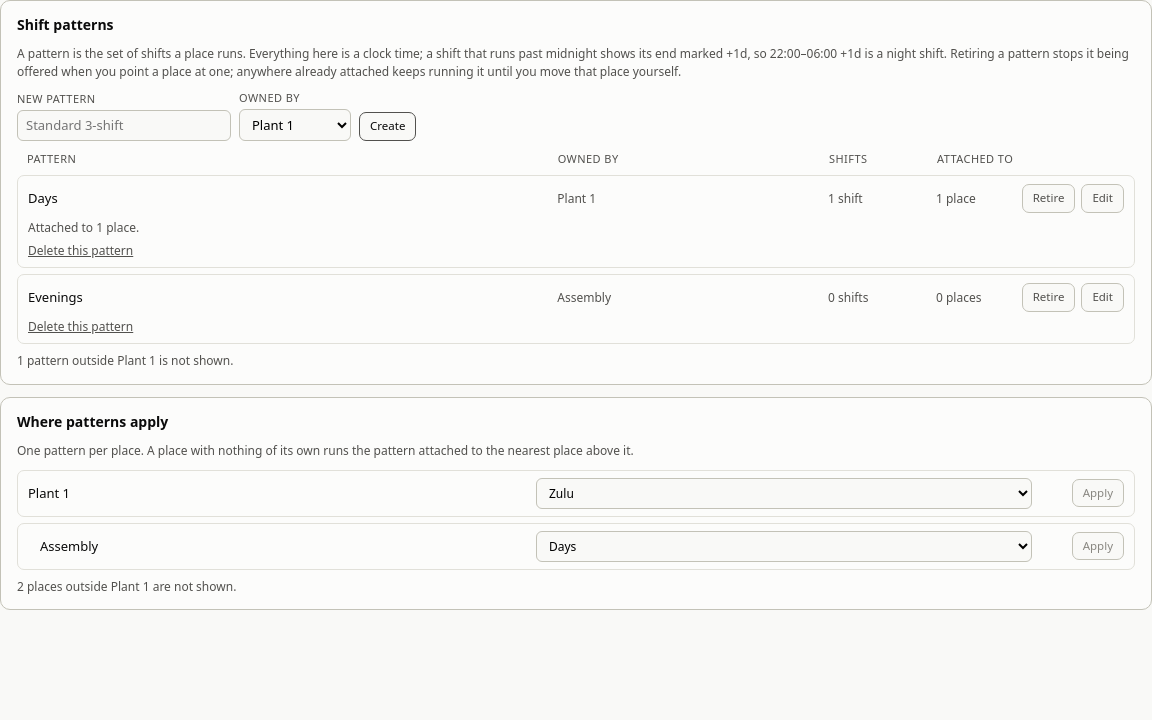
Scenario: ShiftsPanel — uniqueness reads the UNTRIMMED list › S16: renaming onto a filtered-away pattern's name is refused the same way
The image size is (1152, 720).
Click the button "Edit" in the row of "Days" at (1103, 198), box x1=1081 y1=184 x2=1124 y2=213
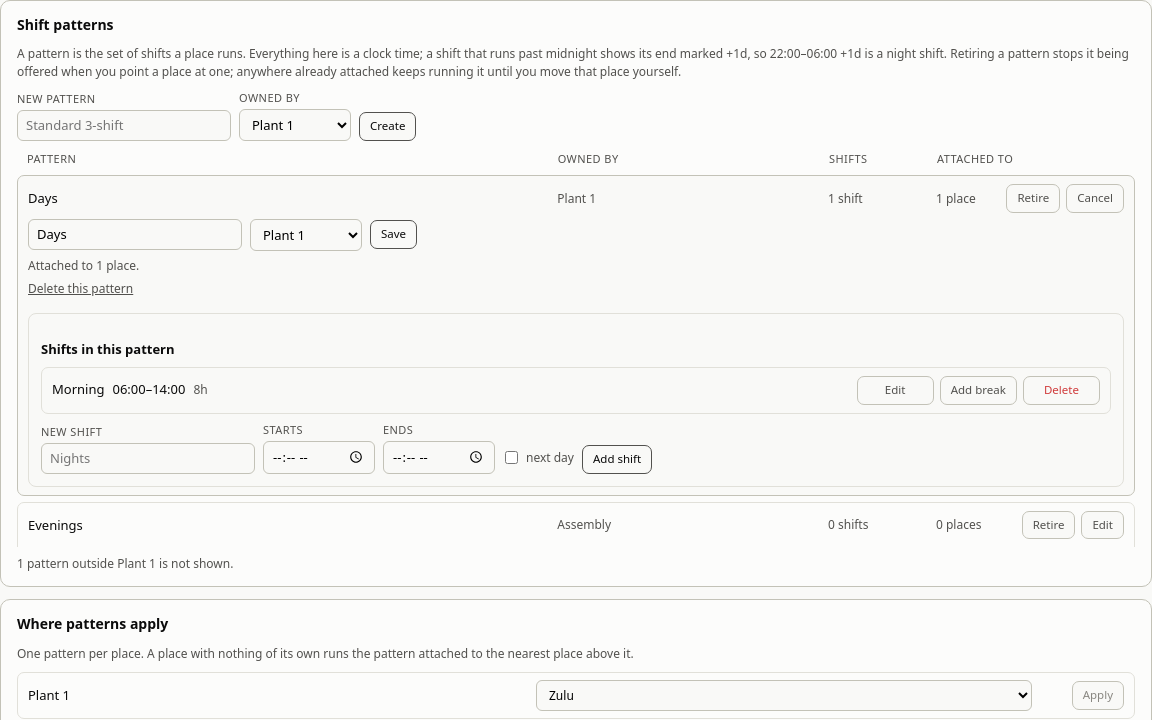
Replace the text in the field named "Pattern name" with "Zulu" at (135, 235), box x1=28 y1=219 x2=242 y2=250
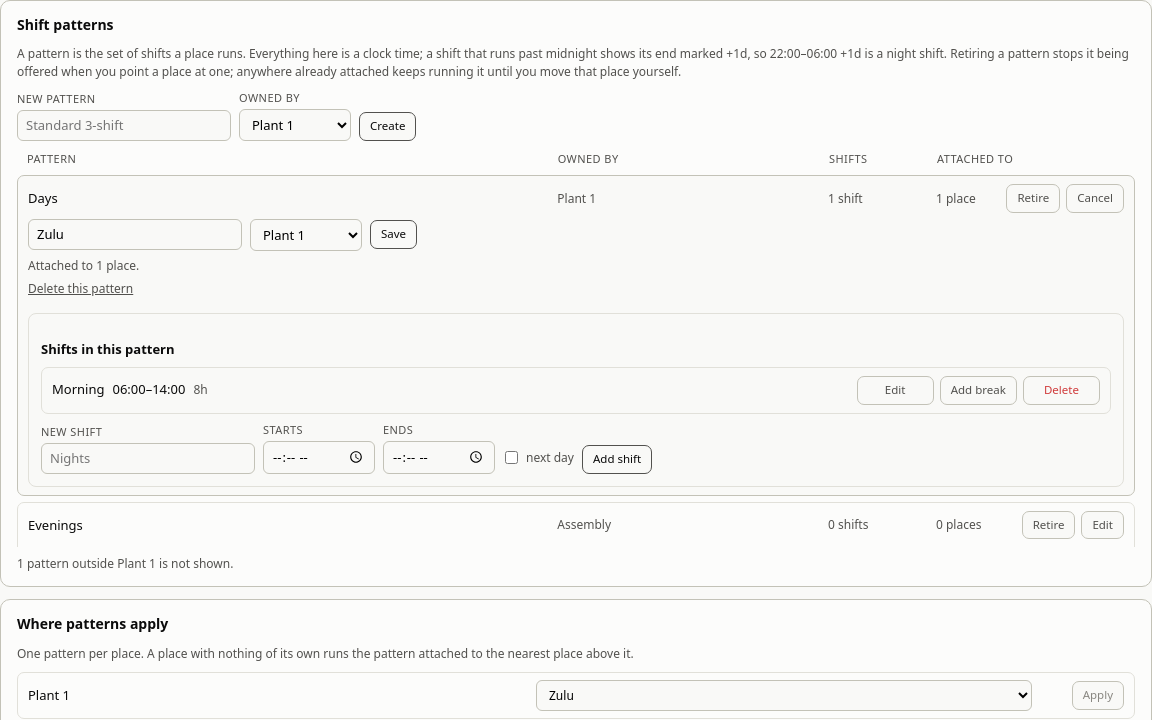
Click the button "Save" at (394, 235), box x1=370 y1=220 x2=417 y2=249
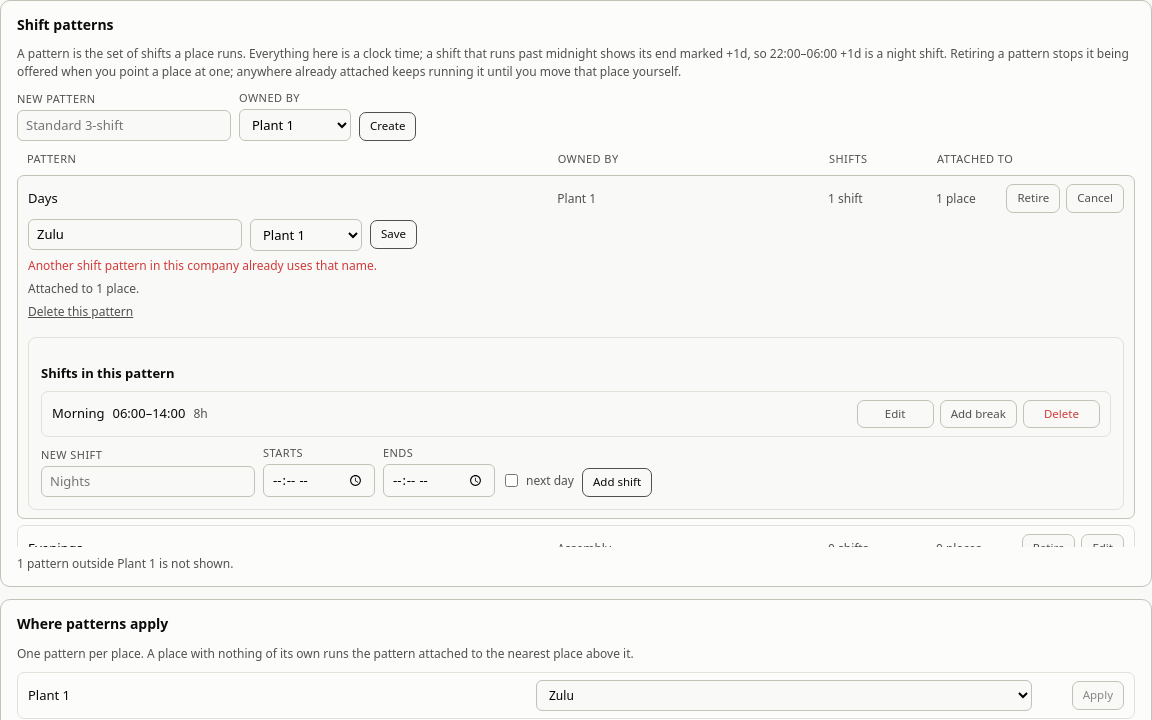
expect the text "Another shift pattern in this company already uses that name." is shown: met, box x1=28 y1=257 x2=377 y2=274
